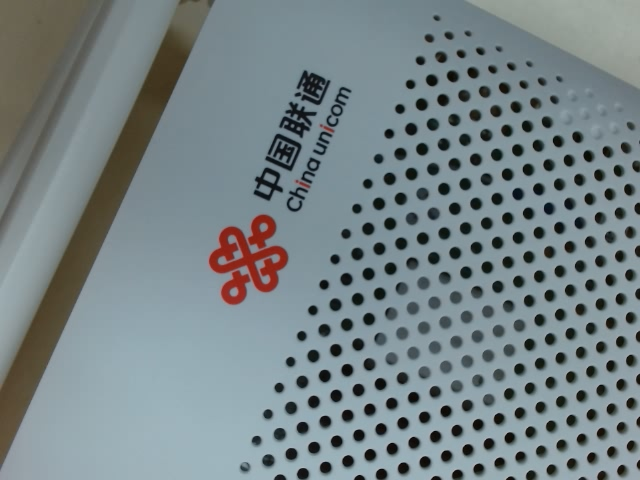AD_ChinaUnicom: (200, 47, 358, 314)
